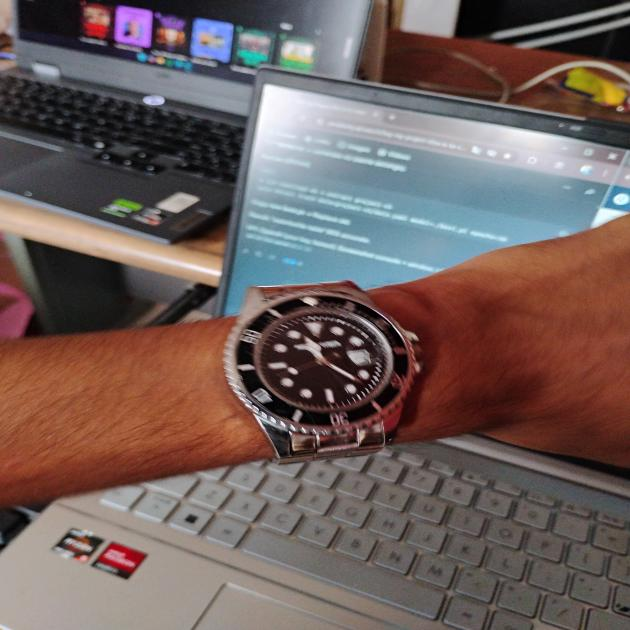laptop: (0, 0, 388, 234)
wristwatch: (207, 277, 452, 473)
